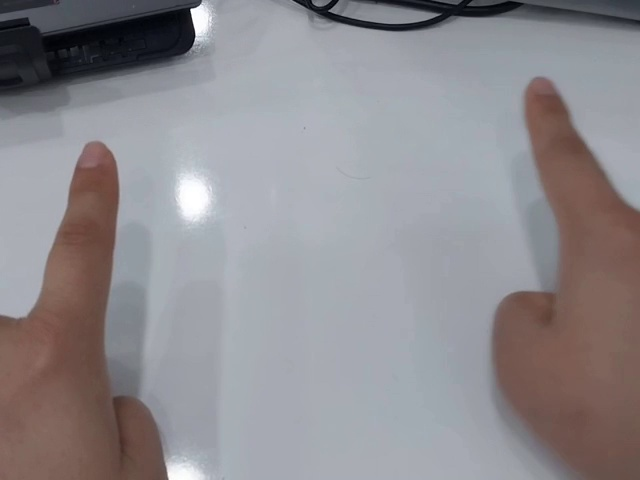fingers: (70, 138, 121, 191), (522, 74, 572, 121)
